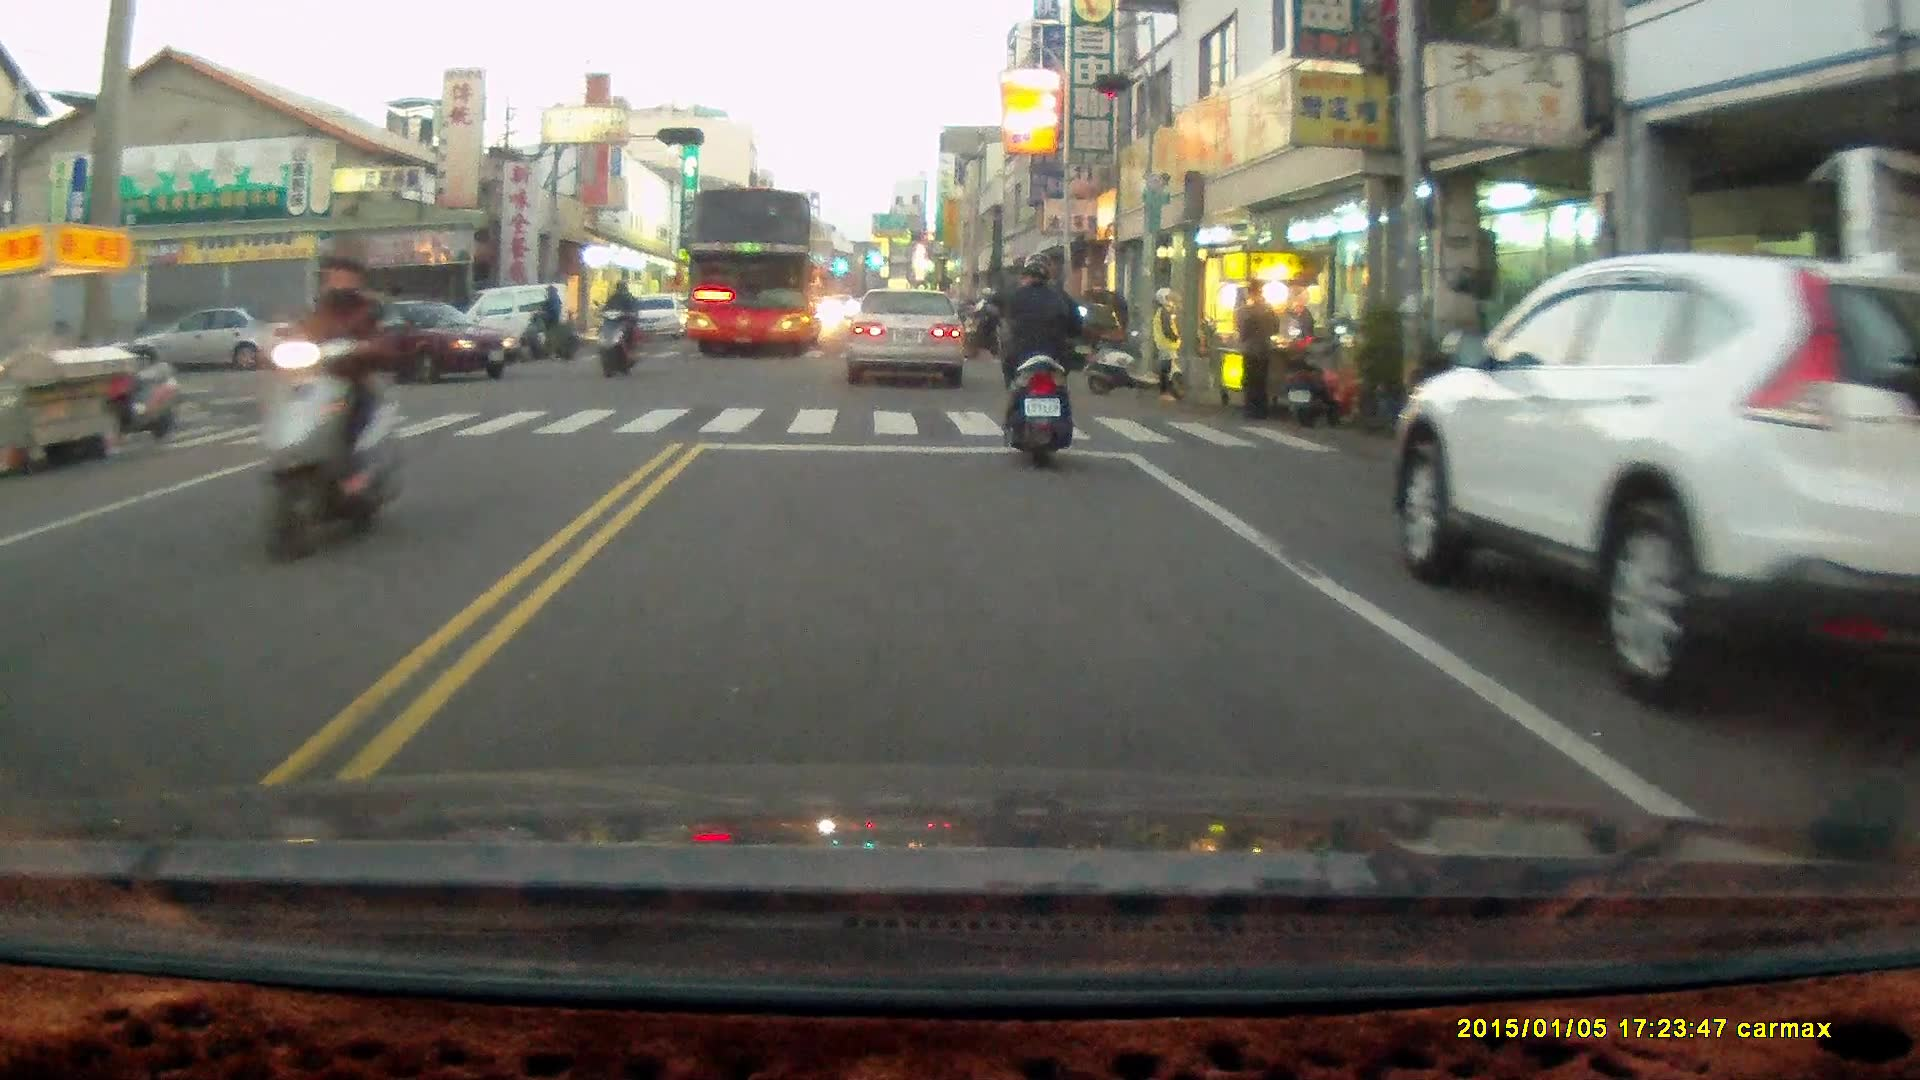pedestrian: (1235, 279, 1277, 425), (1146, 286, 1183, 407)
rider: (251, 233, 408, 567), (989, 253, 1088, 471), (515, 284, 577, 363), (593, 279, 638, 378), (960, 285, 1013, 364)
vehicle: (1389, 251, 1915, 717), (680, 192, 824, 367), (318, 300, 512, 385), (437, 280, 581, 374), (846, 287, 969, 391), (120, 311, 289, 378)
